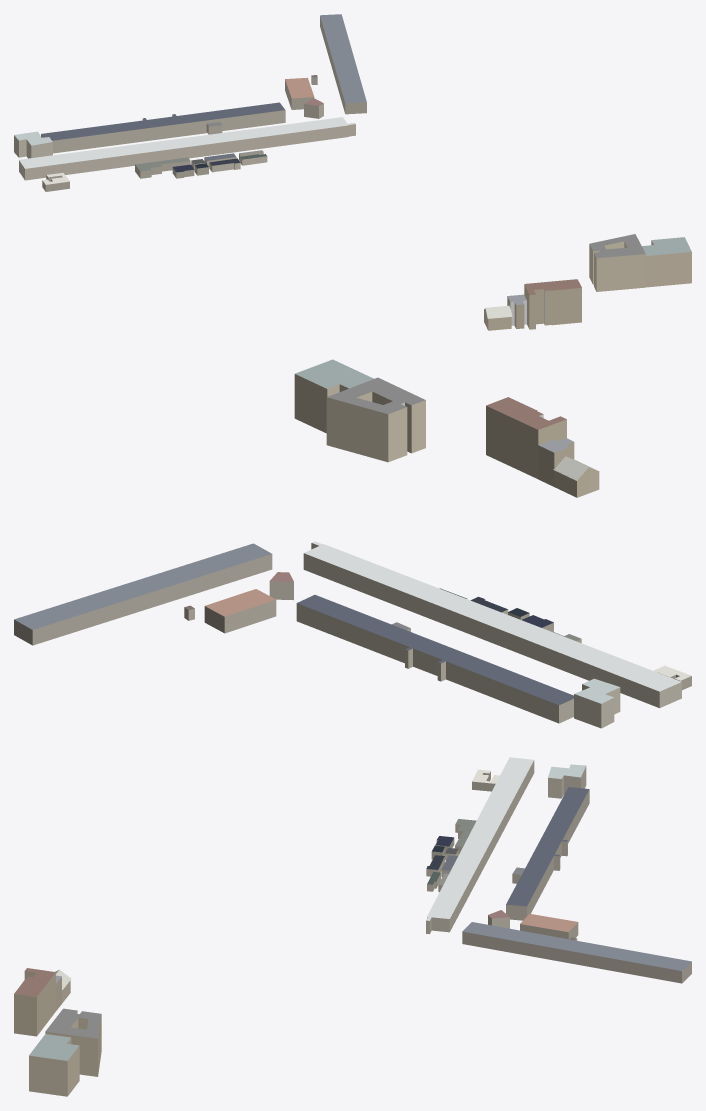
3 views of the same model, one above another, from view 1: azimuth 30°, elevation 25°; view 2: azimuth 150°, elevation 25°; view 3: azimuth 270°, elevation 25° (orthographic). The views are drawn at different scales.
Visible parts, largest first — view 1: tuile; view 2: tuile; view 3: tuile.
Boxes of the visible parts, left/top/right/bottom form: tuile: left=14, top=14, right=691, bottom=330; tuile: left=14, top=359, right=691, bottom=728; tuile: left=14, top=757, right=691, bottom=1096.
Size of the model in its own units: 267 by 44.32 by 296.
